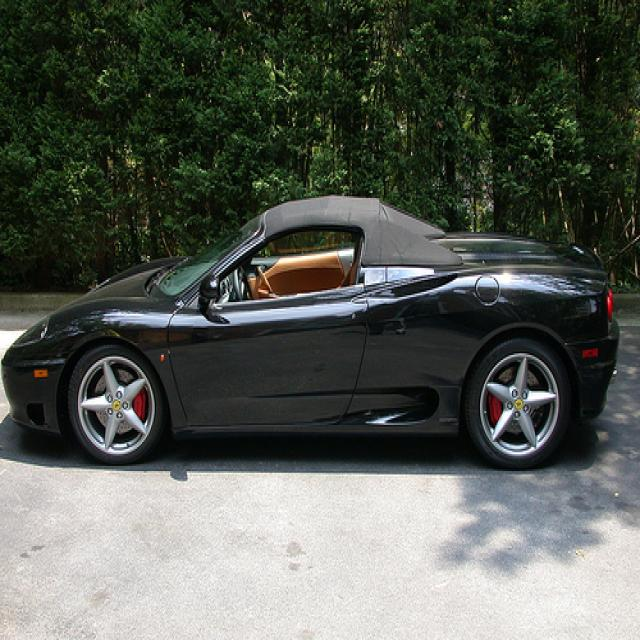car: (1, 194, 621, 467)
